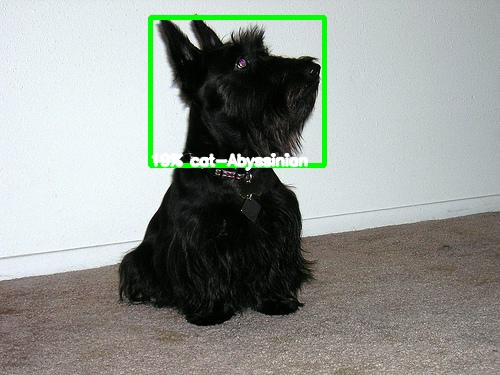dog-scottish_terrier: (160, 15, 319, 120)
